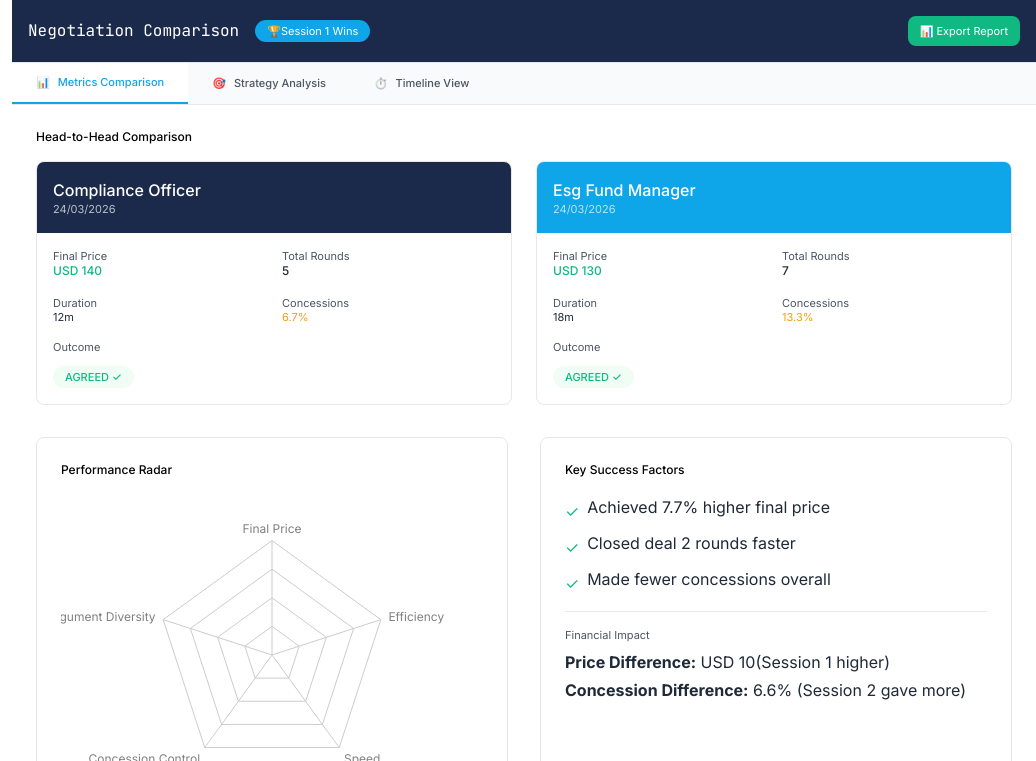
Scenario: ComparisonDashboard › Tab Navigation › switches to strategy tab
The image size is (1036, 761).
Click the button "🎯 Strategy Analysis" at point(269, 83), box [188,63,350,104]
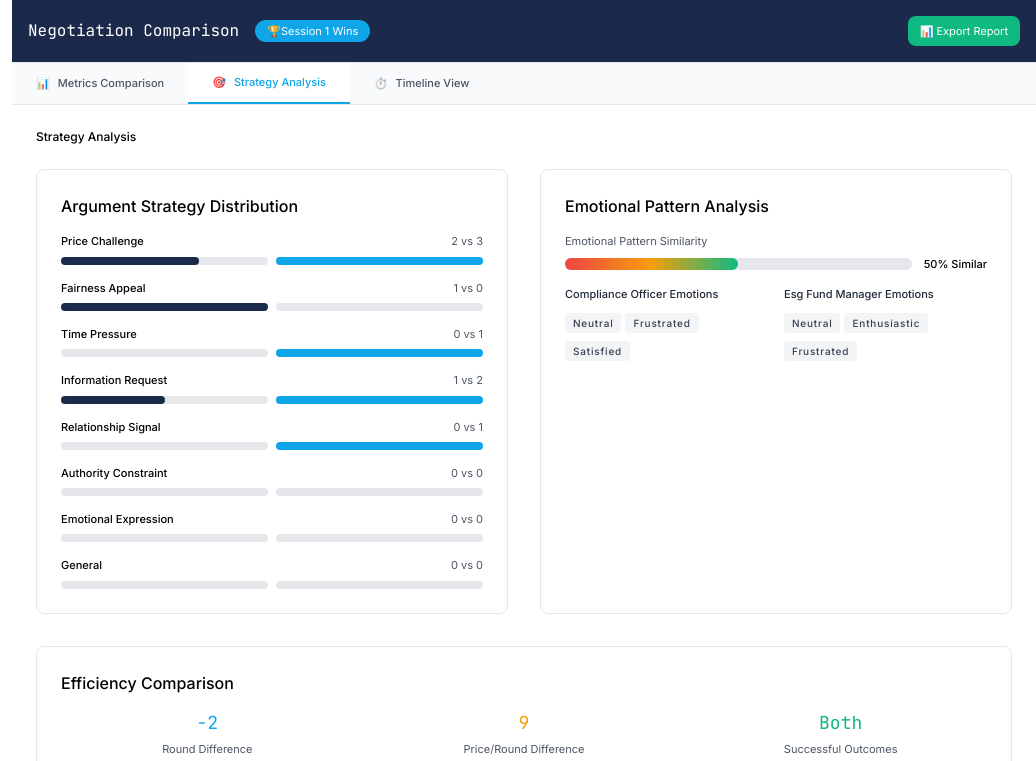
Check: the heading "Argument Strategy Distribution" is shown, box [61,196,298,216]
